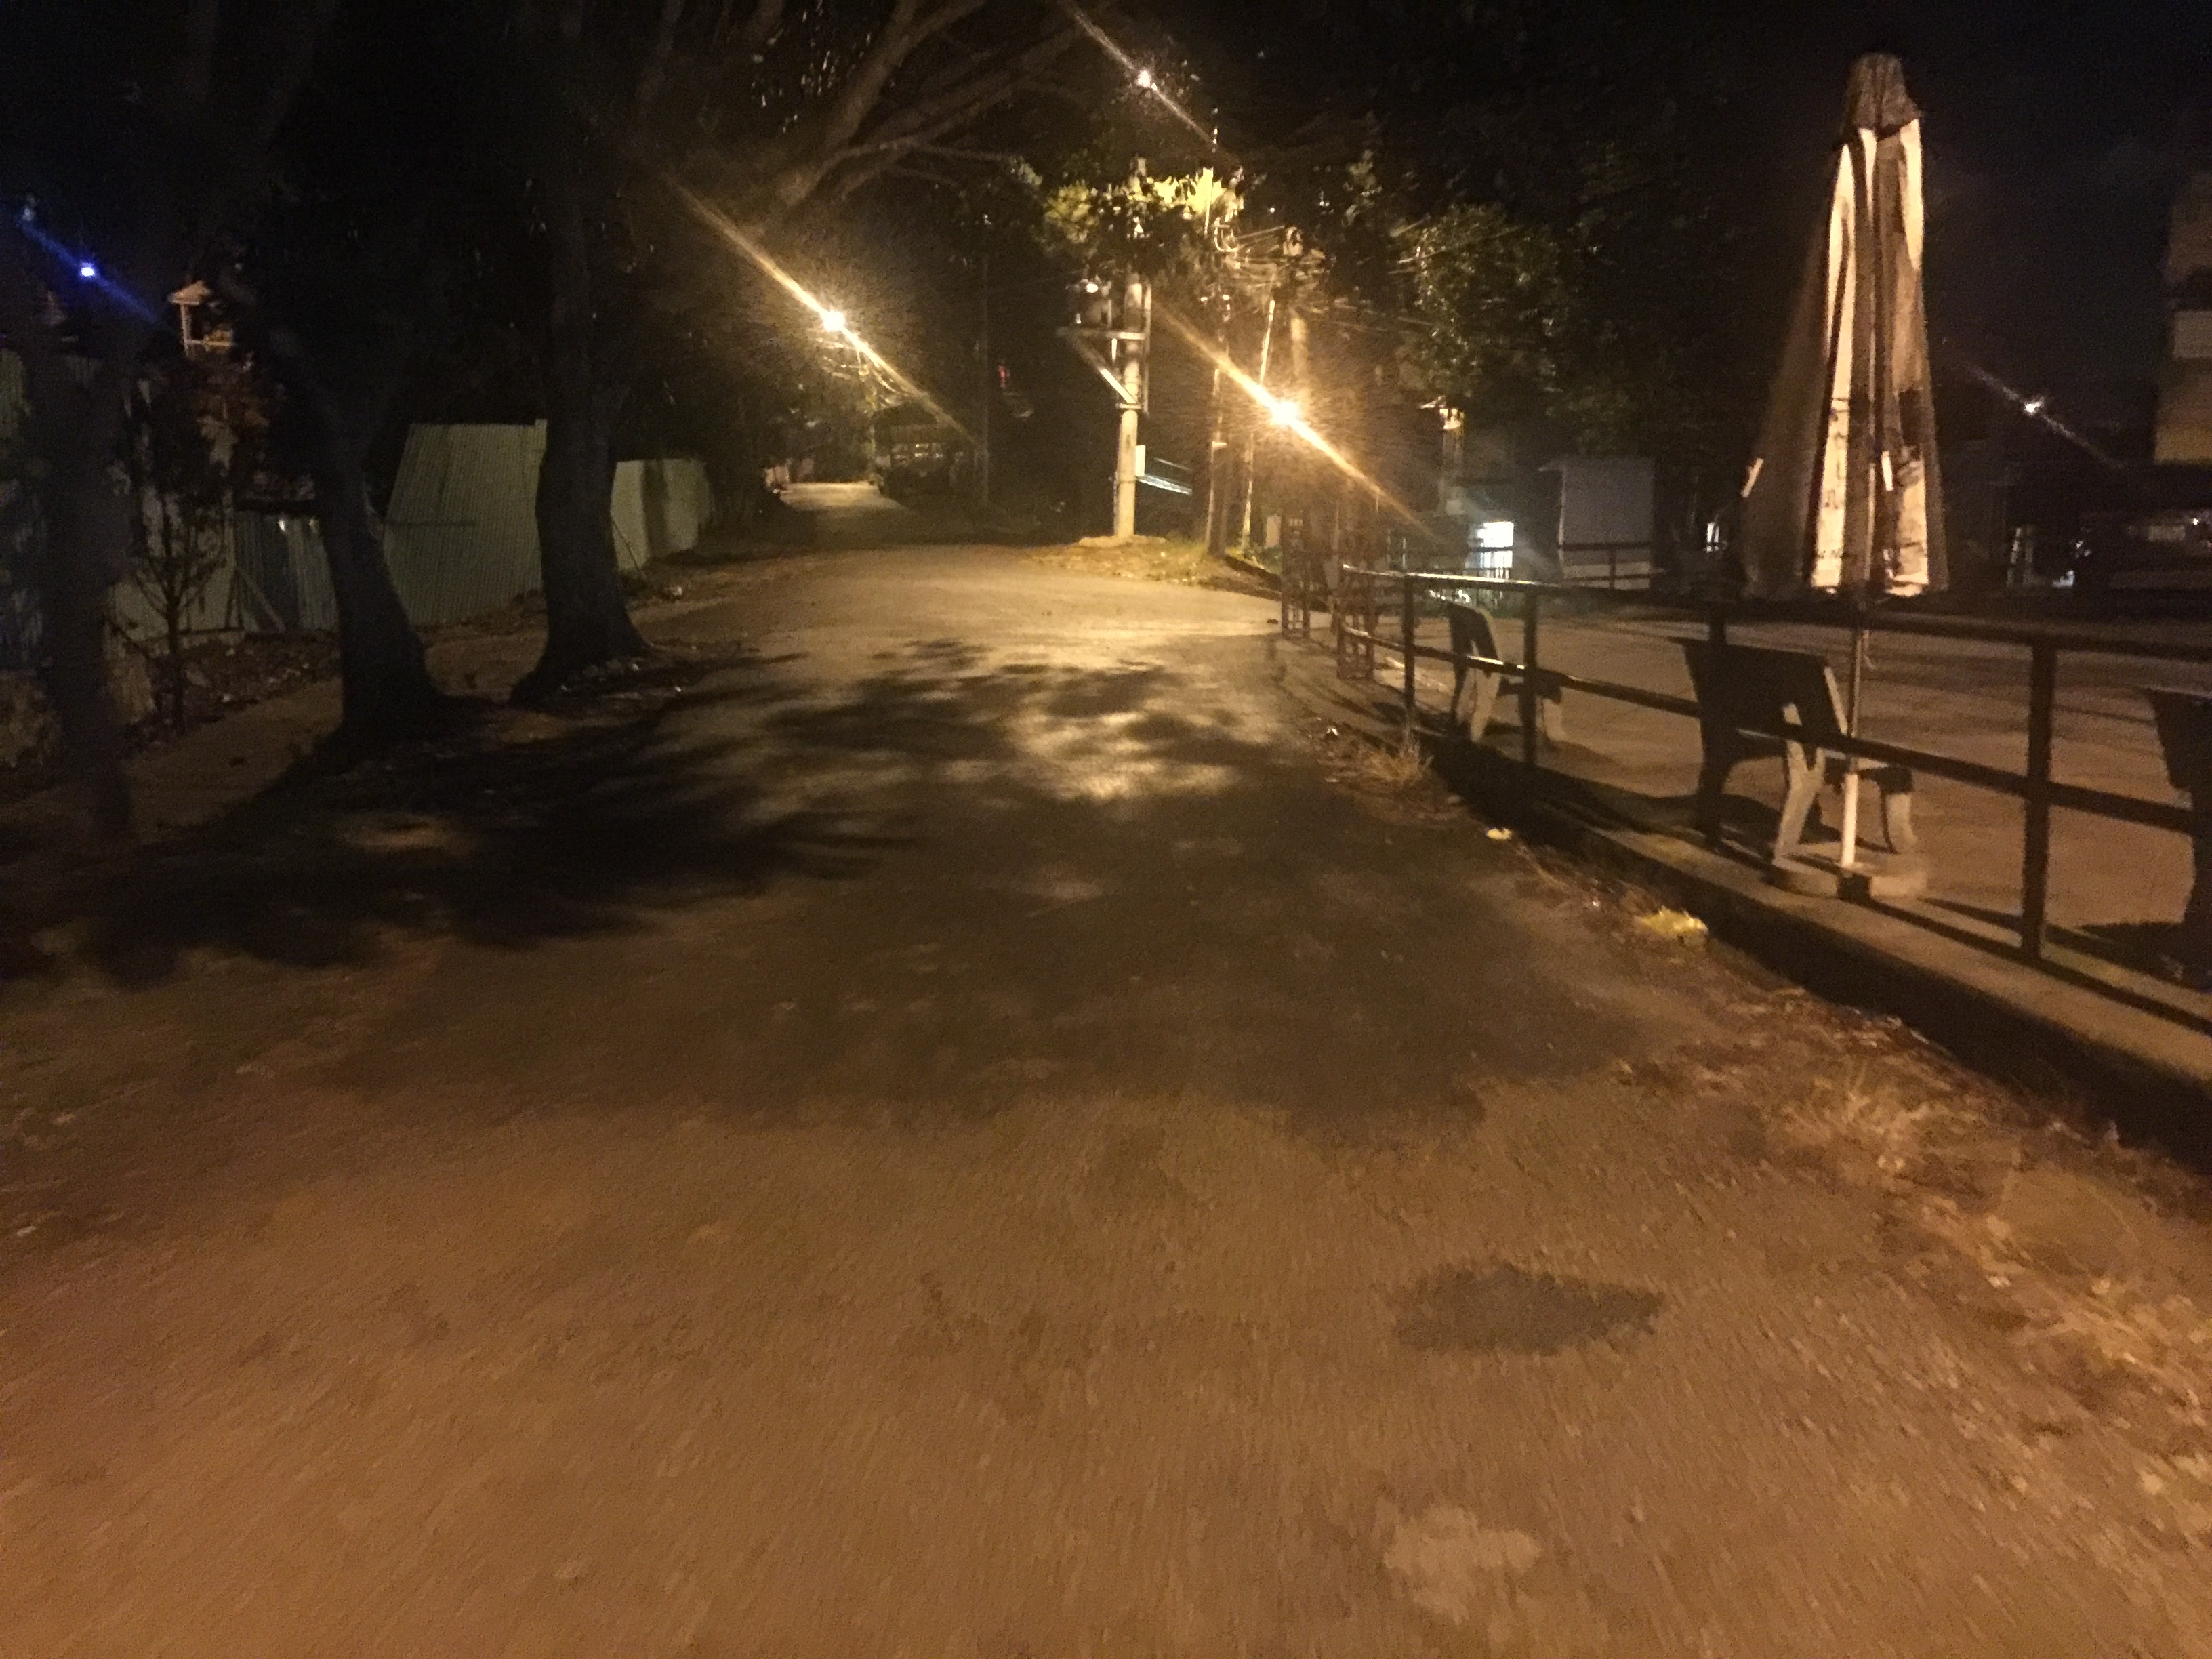hole: (1371, 1493, 1541, 1622)
